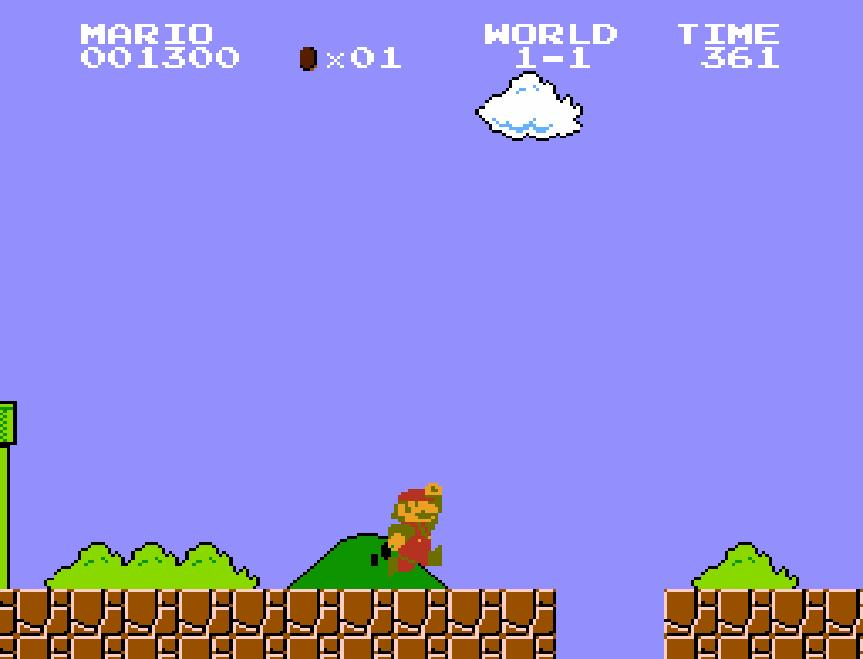big_mario: (386, 482, 444, 580)
